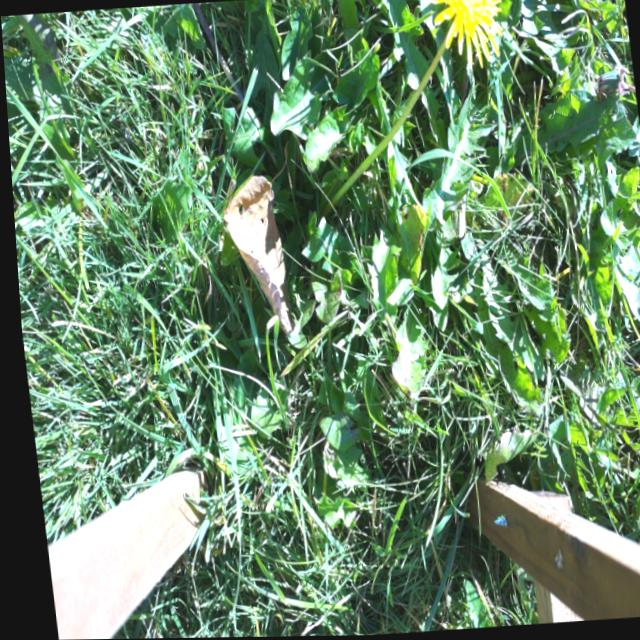base: (309, 187, 342, 230)
